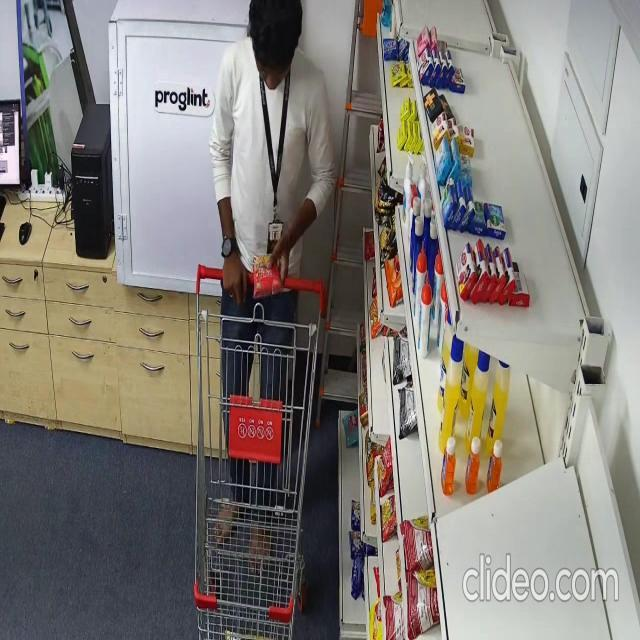normal: (209, 0, 338, 578)
